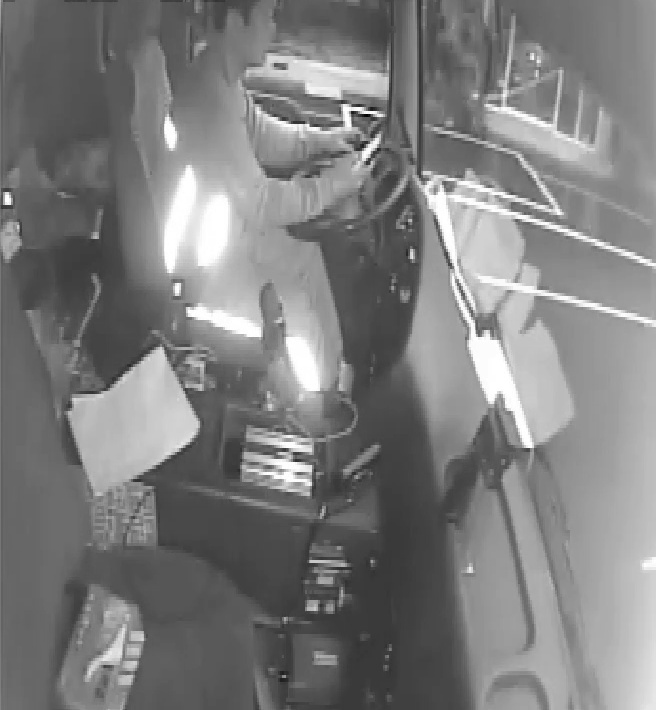cellphone: (348, 132, 383, 170)
